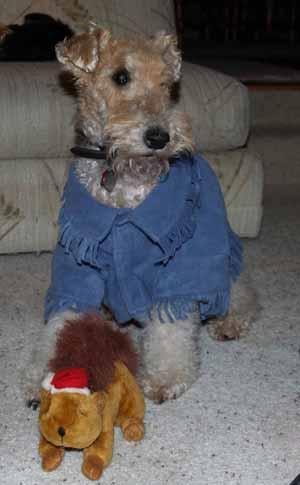wire-haired_fox_terrier: (21, 20, 263, 408)
